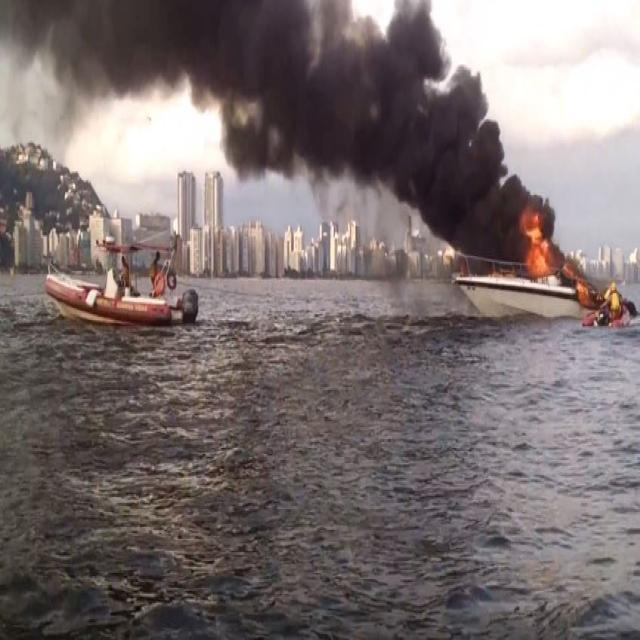Fire: (523, 195, 628, 332), (518, 199, 552, 275), (566, 246, 574, 281), (572, 288, 594, 294)
Smoke: (311, 181, 420, 257)
